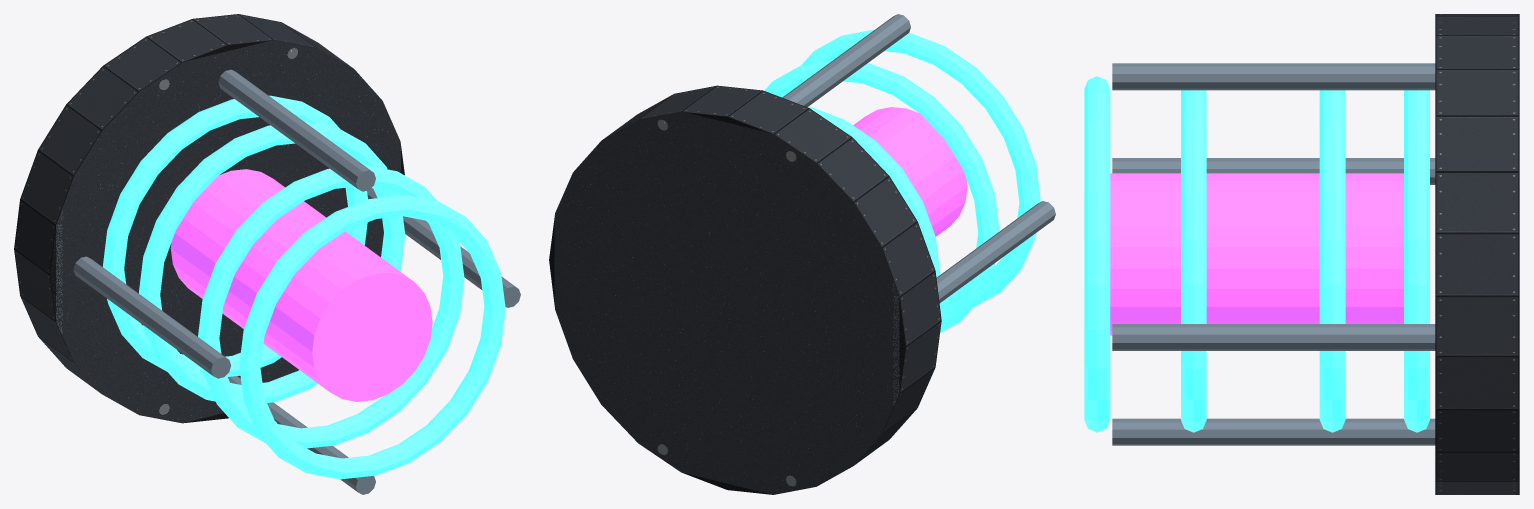
File: reactor-high.glb
3 views of the same model, side by side, from view 1: azimuth 30°, elevation 25°; view 2: azimuth 150°, elevation 25°; view 3: azimuth 270°, elevation 25° (orthographic). The views are drawn at different scales.
Parts seen in each view (by area): view 1: reactor-root / Ceramic graphite.014, reactor-root / Cyan instrumentation.014, reactor-root / Violet processing.014, reactor-root / Titanium edges.014; view 2: reactor-root / Ceramic graphite.014, reactor-root / Cyan instrumentation.014, reactor-root / Violet processing.014, reactor-root / Titanium edges.014; view 3: reactor-root / Ceramic graphite.014, reactor-root / Violet processing.014, reactor-root / Cyan instrumentation.014, reactor-root / Titanium edges.014.
Boxes of the visible parts, bbox=[...] form: reactor-root / Ceramic graphite.014: bbox=[14, 14, 404, 423]; reactor-root / Cyan instrumentation.014: bbox=[103, 95, 505, 479]; reactor-root / Violet processing.014: bbox=[170, 169, 432, 401]; reactor-root / Titanium edges.014: bbox=[73, 69, 520, 494]; reactor-root / Ceramic graphite.014: bbox=[549, 85, 941, 494]; reactor-root / Cyan instrumentation.014: bbox=[764, 29, 1040, 332]; reactor-root / Violet processing.014: bbox=[853, 107, 967, 236]; reactor-root / Titanium edges.014: bbox=[782, 14, 1055, 302]; reactor-root / Ceramic graphite.014: bbox=[1435, 14, 1519, 494]; reactor-root / Violet processing.014: bbox=[1110, 173, 1403, 335]; reactor-root / Cyan instrumentation.014: bbox=[1084, 76, 1429, 432]; reactor-root / Titanium edges.014: bbox=[1112, 63, 1435, 445].
Bounding box in the file's own units: 1.6 × 1.6 × 1.44.
4 materials, 1 textured.
